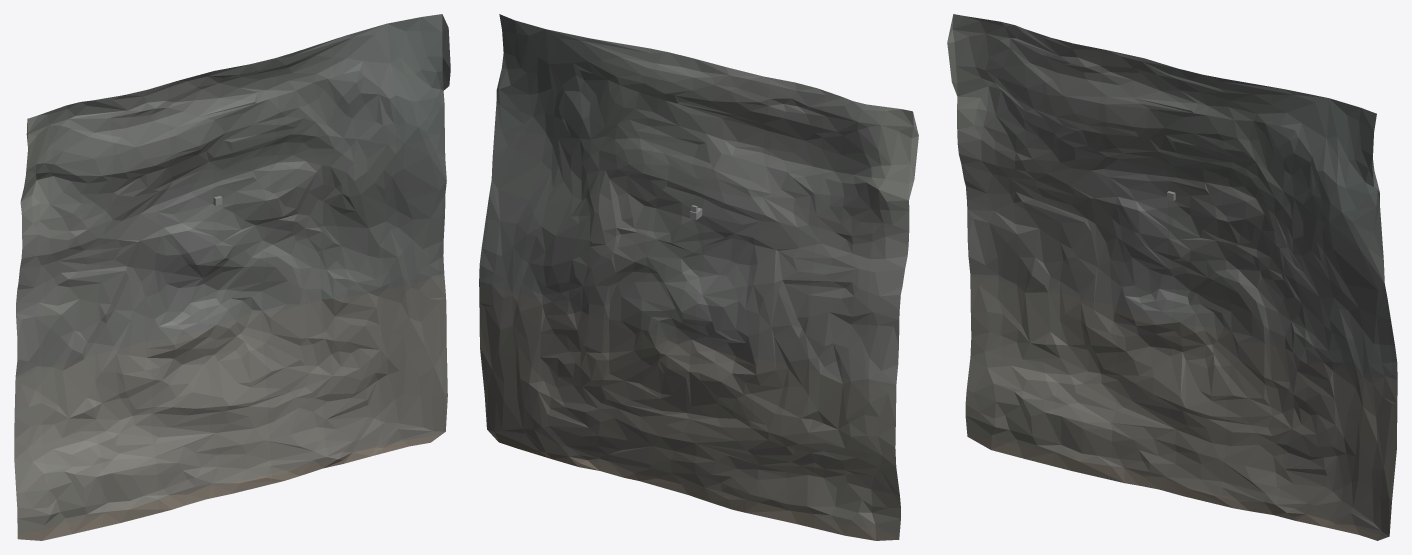
Rendered from Floor.FBX.
3 renders of one model, left to right at view 1: azimuth 30°, elevation 25°; view 2: azimuth 150°, elevation 25°; view 3: azimuth 330°, elevation 25°, orthographic. The views are drawn at different scales.
Visible parts, largest first — view 1: Group39197; view 2: Group39197; view 3: Group39197.
Part boxes in pixels (box(x1,y1,x2,y2)): Group39197: box(14, 14, 450, 540); Group39197: box(479, 14, 918, 540); Group39197: box(947, 14, 1397, 540).
Bounding box in the file's own units: 6614 × 694 × 6406.
